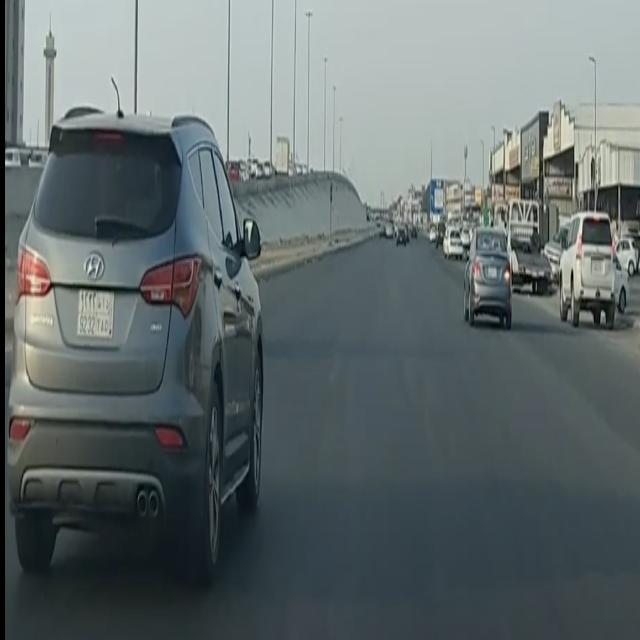license_plate: (74, 286, 116, 350), (488, 267, 497, 279), (593, 260, 601, 273), (400, 238, 402, 242)
